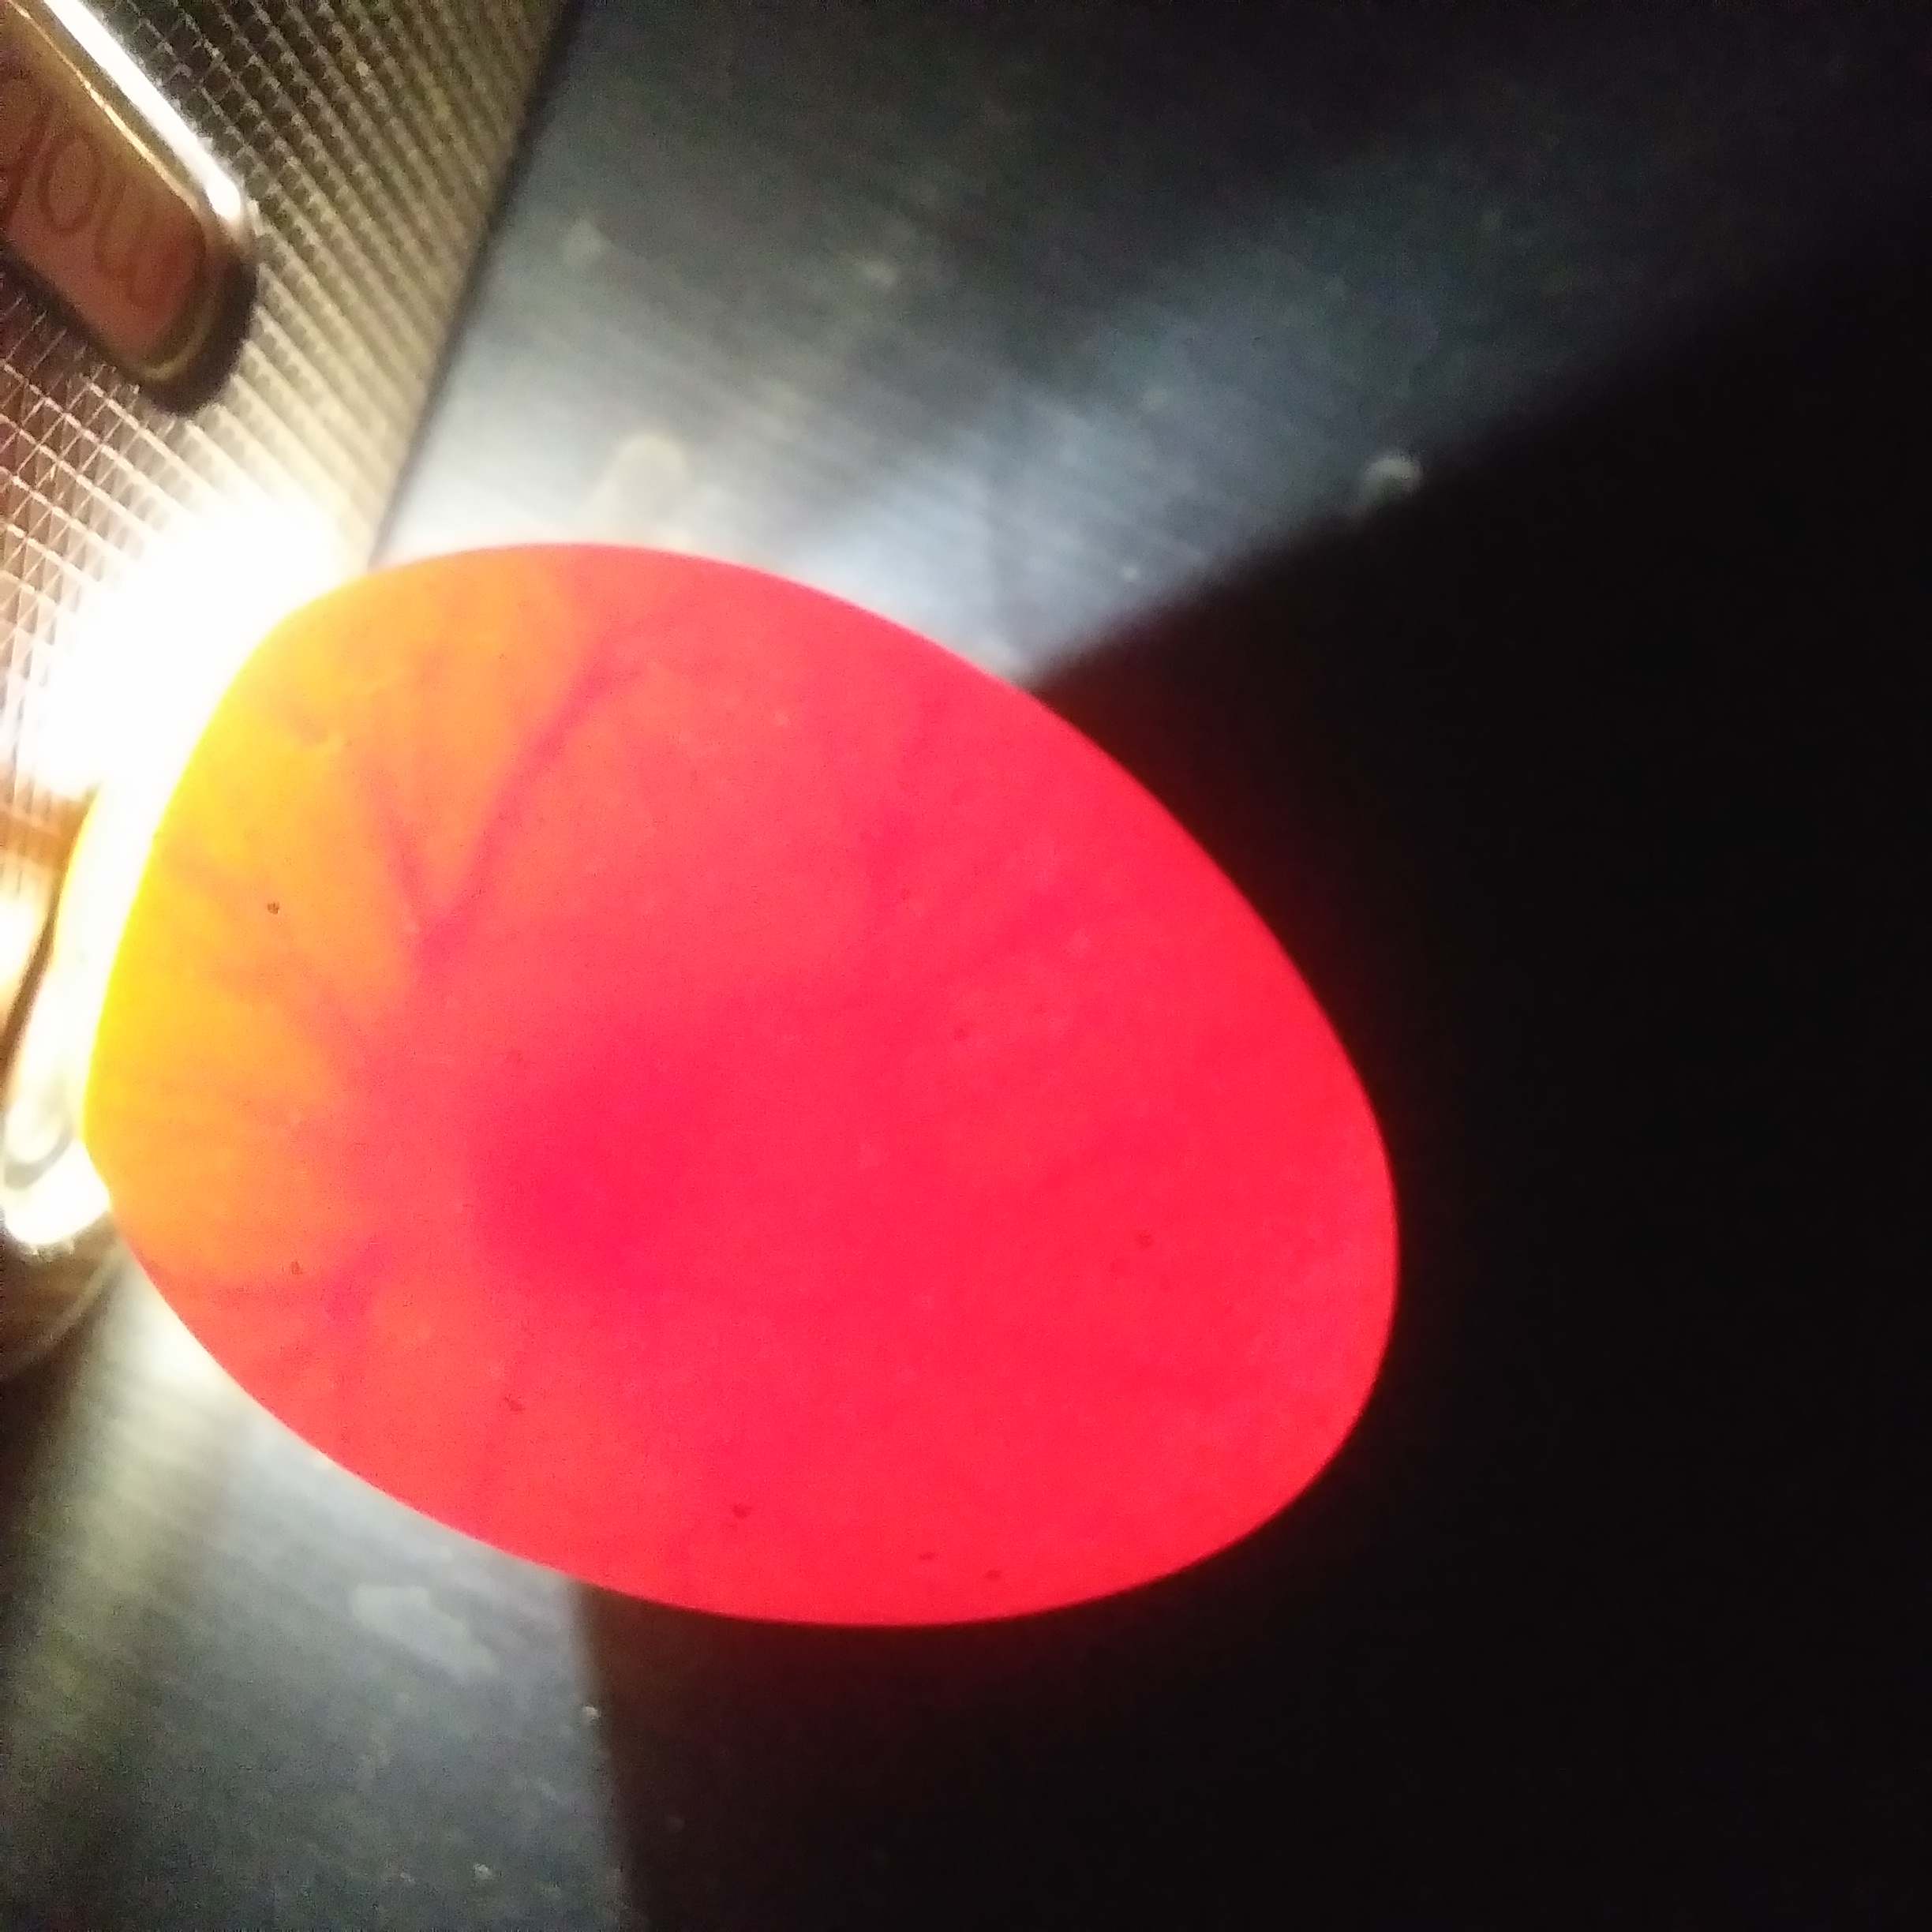bloodcell: (276, 671, 970, 1035), (152, 1051, 407, 1327)
embryo: (474, 1072, 609, 1284)
